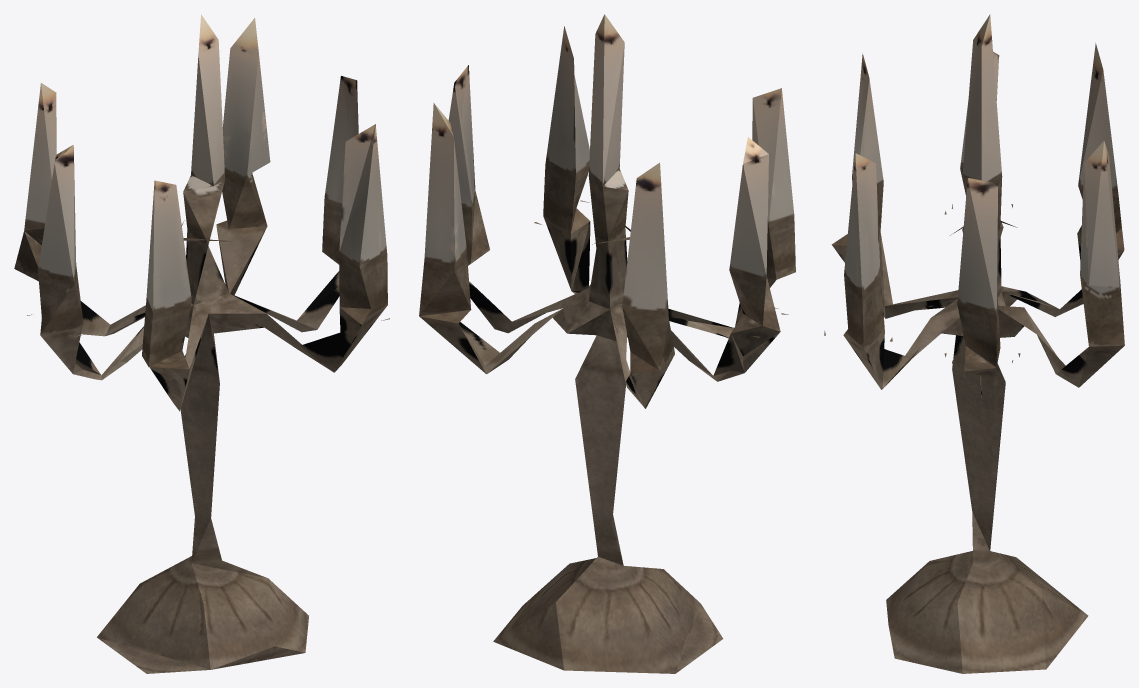
File: candelabra_lod0.glb
3 views of the same model, side by side, from view 1: azimuth 30°, elevation 25°; view 2: azimuth 150°, elevation 25°; view 3: azimuth 270°, elevation 25° (orthographic).
Visible parts, largest first — view 1: low; view 2: low; view 3: low.
Part boxes in pixels (x1,y1,x2,y2): low: (14, 14, 389, 673); low: (419, 14, 795, 673); low: (824, 14, 1124, 673).
Size of the model in its own units: 0.473 by 0.8251 by 0.3646.
1 material, 1 textured.
